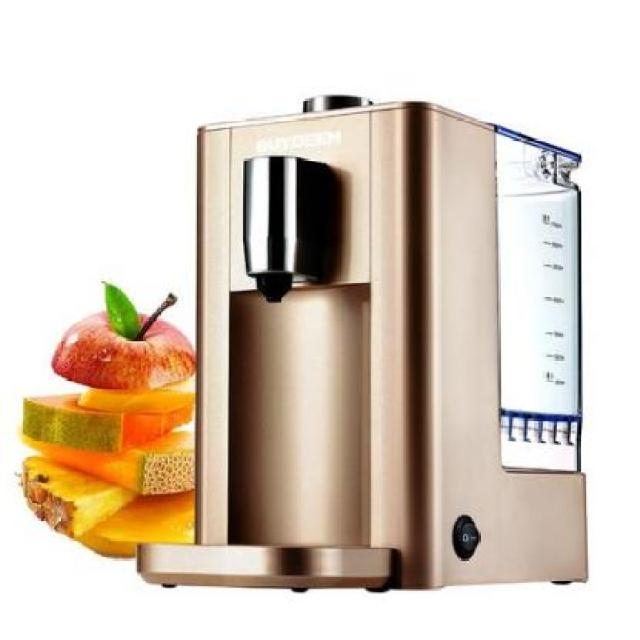cooler: (134, 83, 591, 596)
